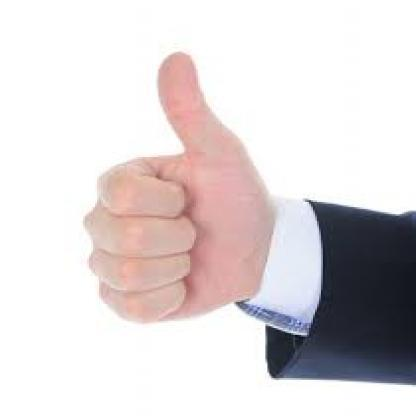thumb_up: (77, 45, 274, 328)
